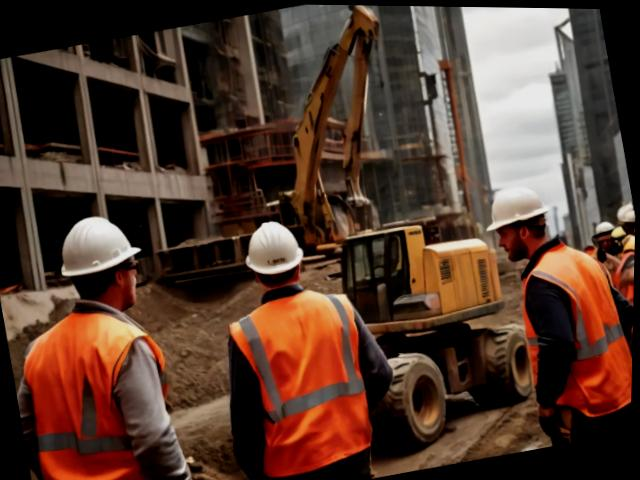helmet: (46, 207, 146, 282), (239, 211, 305, 278), (477, 175, 550, 230), (591, 217, 619, 236), (613, 201, 637, 223)
vest: (8, 301, 193, 480), (224, 286, 382, 480), (515, 247, 636, 421), (604, 248, 636, 339)
